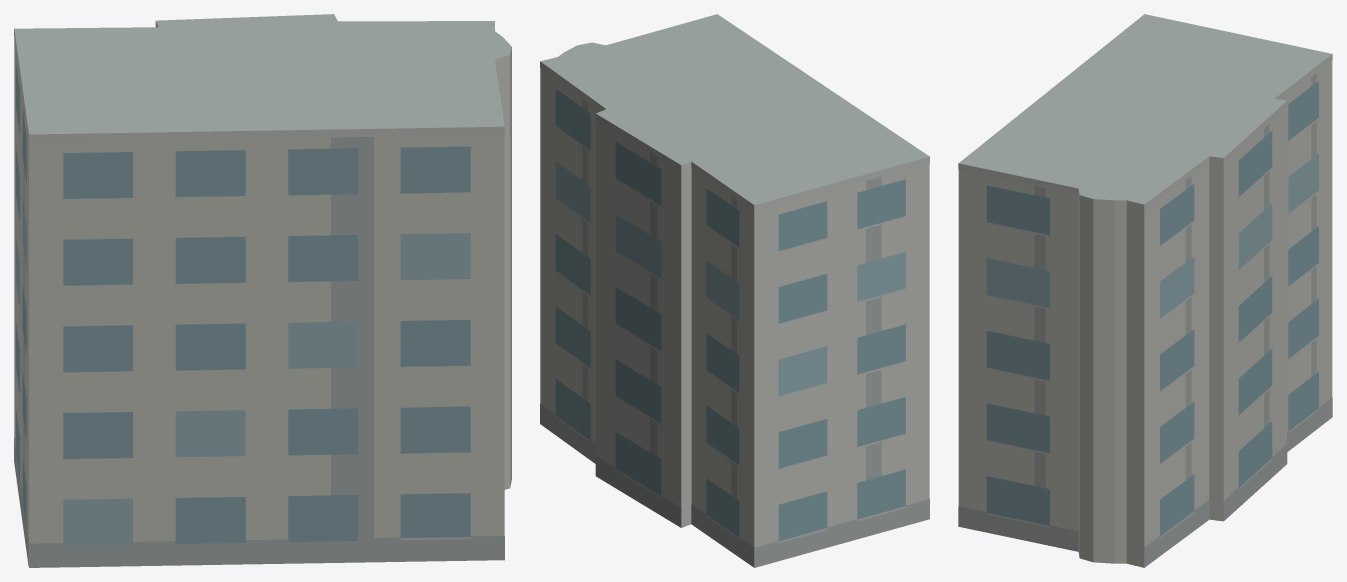
File: survey-upis-32908013.glb
3 renders of one model, left to right at view 1: azimuth 30°, elevation 25°; view 2: azimuth 150°, elevation 25°; view 3: azimuth 270°, elevation 25°, orthographic. The views are drawn at different scales.
Parts seen in each view (by area): view 1: survey-upis-32908013.tmp; view 2: survey-upis-32908013.tmp; view 3: survey-upis-32908013.tmp.
Part boxes in pixels (x1,y1,x2,y2): survey-upis-32908013.tmp: (14, 14, 511, 567); survey-upis-32908013.tmp: (540, 14, 929, 567); survey-upis-32908013.tmp: (958, 14, 1332, 567).
Bounding box in the file's own units: 14.63 × 13 × 12.14.
